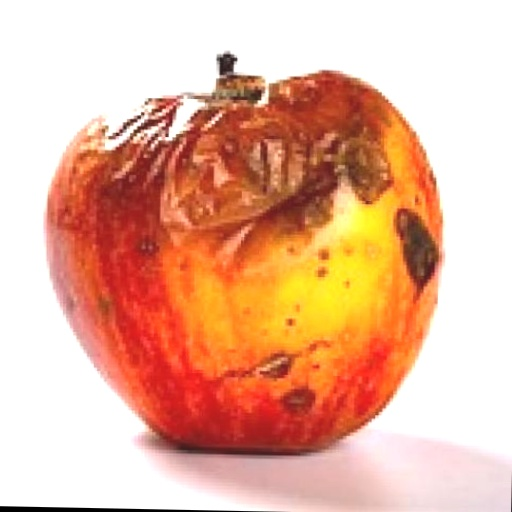fruit: (45, 54, 442, 451)
